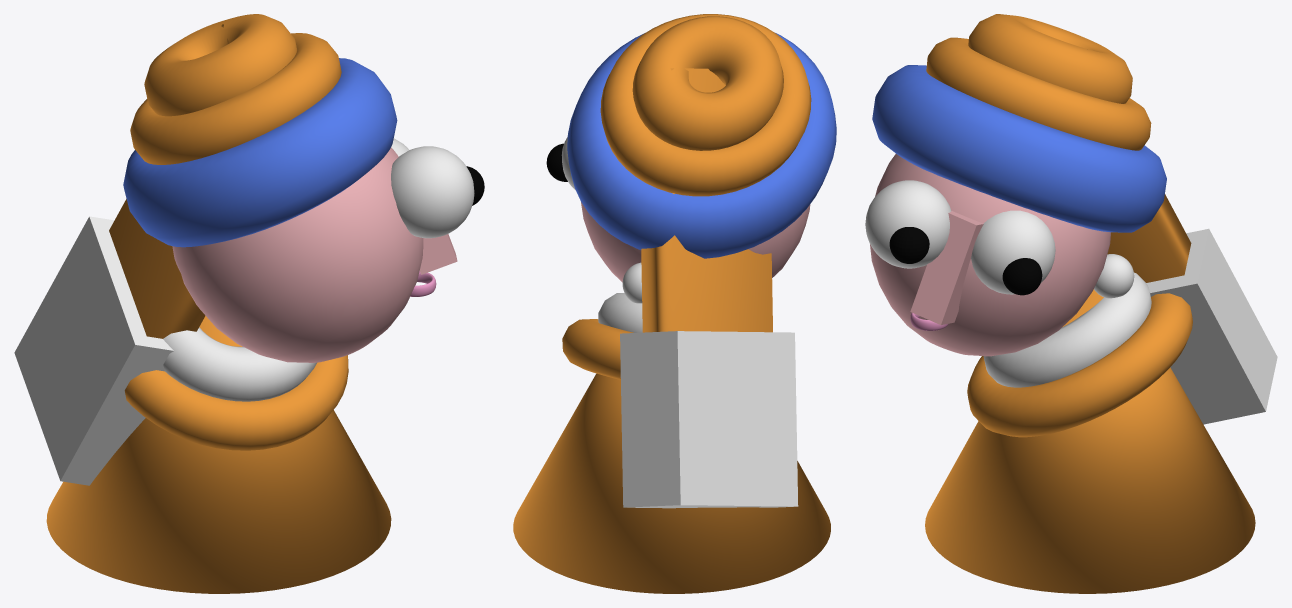
Rendered from 珍珠耳环的少女.fbx.
3 views of the same model, side by side, from view 1: azimuth 30°, elevation 25°; view 2: azimuth 150°, elevation 25°; view 3: azimuth 270°, elevation 25° (orthographic). The views are drawn at different scales.
Parts seen in each view (by area): view 1: 锥体, 球体, 环体.004, 立方体.002, 环体.011, 环体.005, 环体.009, 环体.010, 立方体.001, 球体.002, 立方体; view 2: 锥体, 立方体.002, 环体.004, 环体.009, 环体.005, 立方体.001, 球体, 环体.011, 环体.010, 球体.005, 球体.003; view 3: 锥体, 环体.004, 球体, 立方体.002, 环体.011, 环体.005, 环体.009, 环体.010, 球体.002, 球体.001, 立方体, 立方体.001 (+3 smaller).
Part boxes in pixels (<box>): 锥体: <box>46,316,391,593</box>; 球体: <box>172,147,423,362</box>; 环体.004: <box>123,58,397,247</box>; 立方体.002: <box>14,216,173,485</box>; 环体.011: <box>124,355,348,450</box>; 环体.005: <box>130,33,341,164</box>; 环体.009: <box>144,14,296,116</box>; 环体.010: <box>163,327,316,401</box>; 立方体.001: <box>109,24,229,338</box>; 球体.002: <box>391,146,474,238</box>; 立方体: <box>419,234,457,274</box>; 锥体: <box>513,373,830,593</box>; 立方体.002: <box>620,331,798,508</box>; 环体.004: <box>567,33,836,258</box>; 环体.009: <box>632,16,783,150</box>; 环体.005: <box>600,14,811,196</box>; 立方体.001: <box>641,68,772,332</box>; 球体: <box>581,202,810,282</box>; 环体.011: <box>562,319,633,379</box>; 环体.010: <box>598,293,642,332</box>; 球体.005: <box>622,262,642,303</box>; 球体.003: <box>546,143,567,181</box>; 锥体: <box>925,289,1255,593</box>; 环体.004: <box>872,65,1166,232</box>; 球体: <box>870,154,1110,356</box>; 立方体.002: <box>1146,228,1277,424</box>; 环体.011: <box>967,293,1192,437</box>; 环体.005: <box>926,37,1151,150</box>; 环体.009: <box>968,14,1132,103</box>; 环体.010: <box>983,272,1151,387</box>; 球体.002: <box>865,180,951,268</box>; 球体.001: <box>971,210,1055,294</box>; 立方体: <box>910,211,983,324</box>; 立方体.001: <box>1107,194,1191,282</box>.
Bounding box in the file's own units: 292 × 459 × 342.
